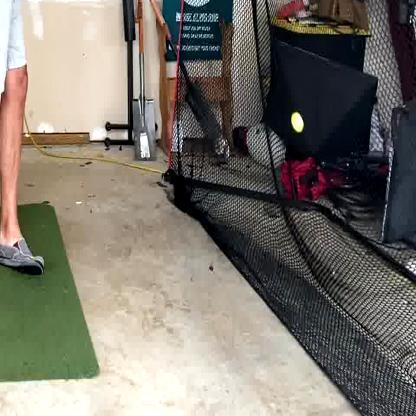ClubHead: (290, 110, 304, 132)
